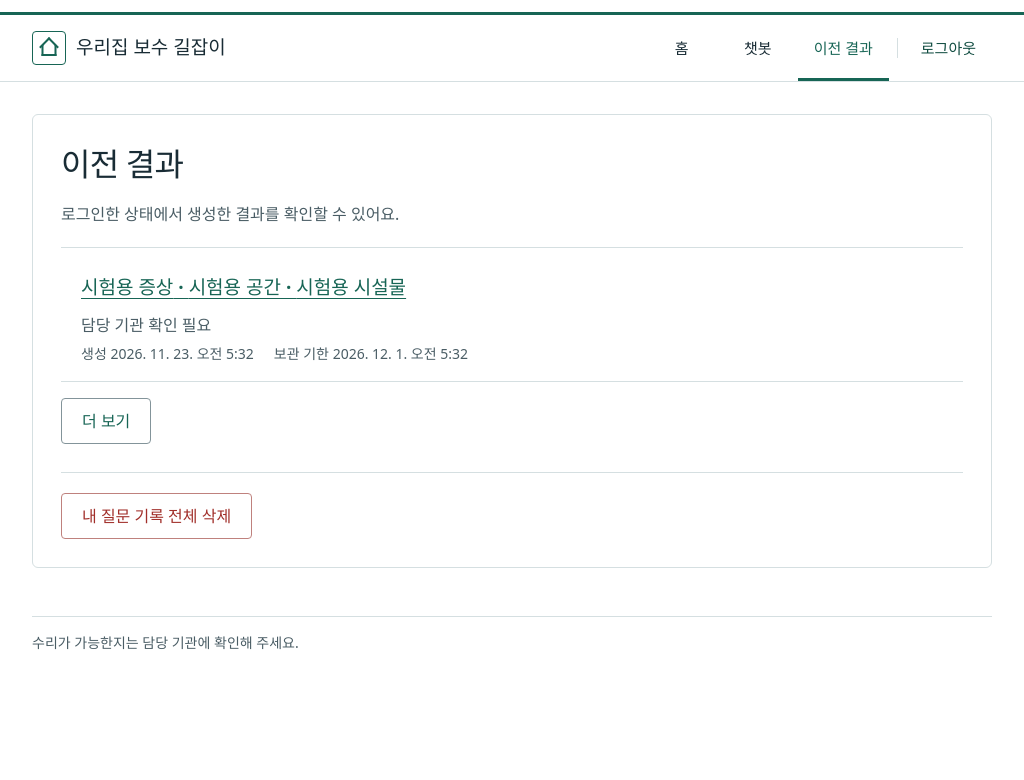
Test: loads member history pages and deletes only question records with CSRF
Expected: the number of list items is 1, [61,247,963,382]
Click the button "더 보기". click: (106, 422)
box: [61,398,151,444]
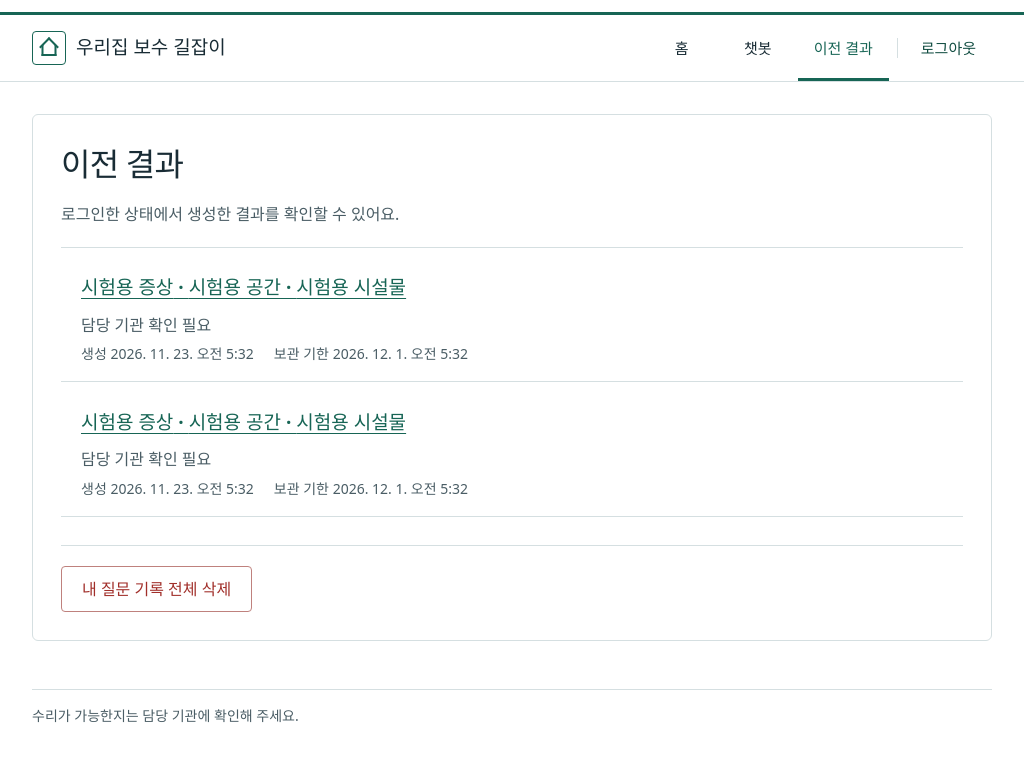
Expected: the number of list items is 2, [61,247,963,382]; [61,382,963,517]
Click the button "내 질문 기록 전체 삭제". click: (157, 589)
box: [61,566,252,612]
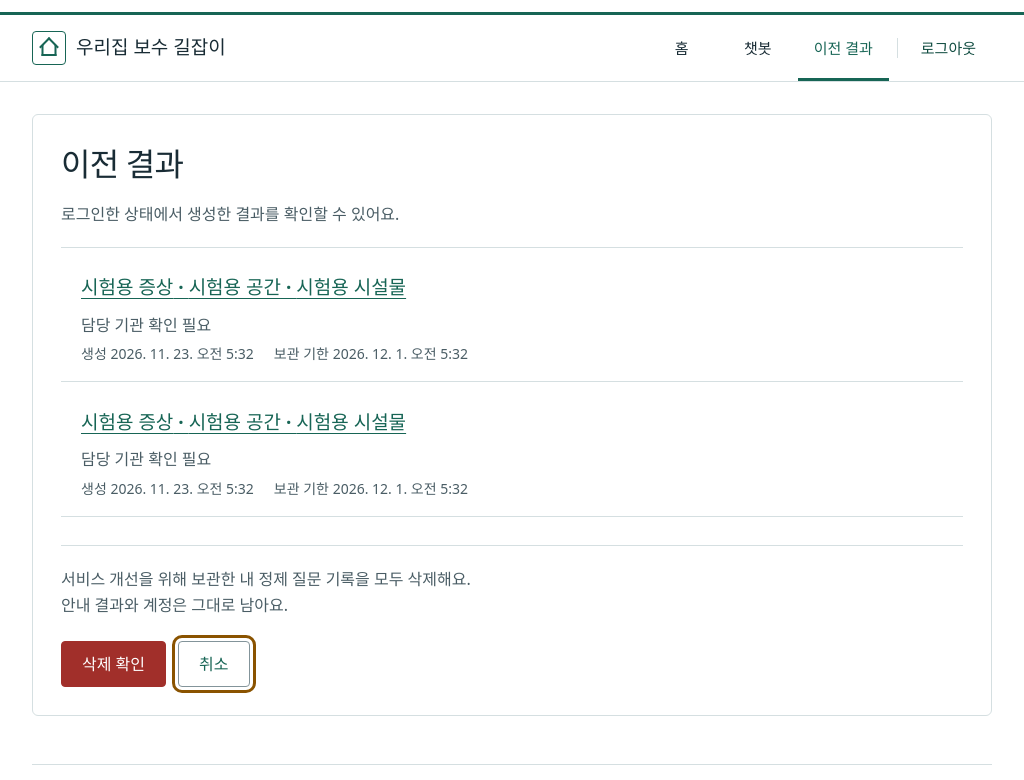
Click the button "삭제 확인". click: (114, 664)
box: [61,641,166,687]
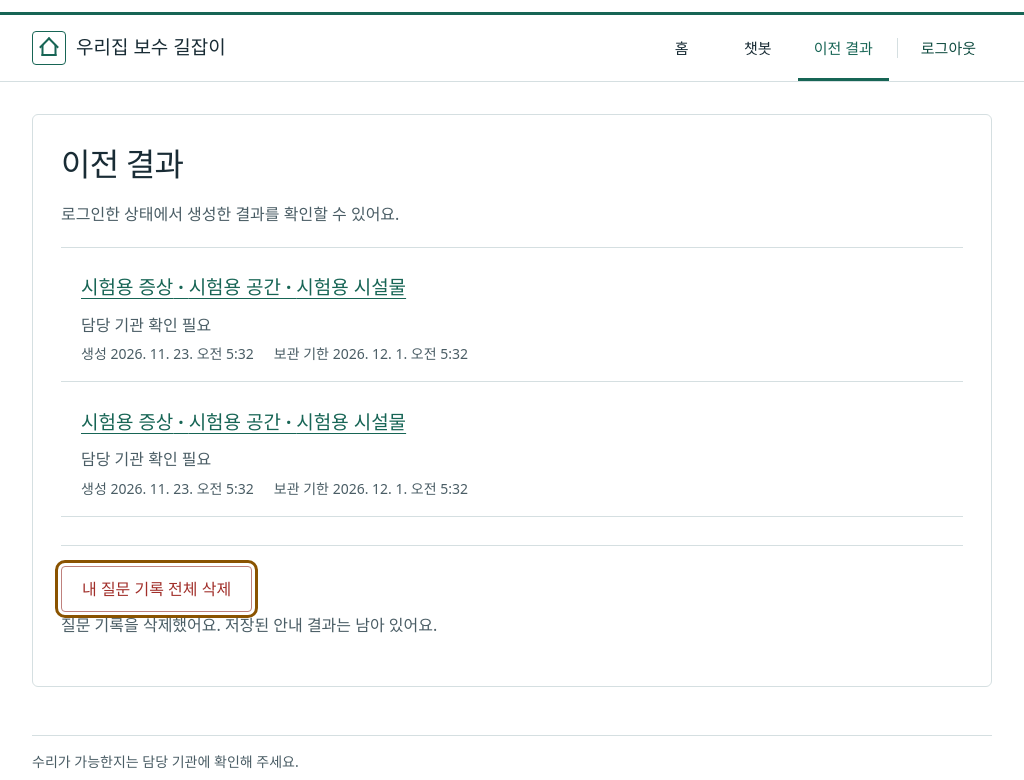
Expected: the number of list items is 2, [61,247,963,382]; [61,382,963,517]
Expected: the text "저장된 안내 결과는 남아 있어요" is shown, [61,614,437,636]
